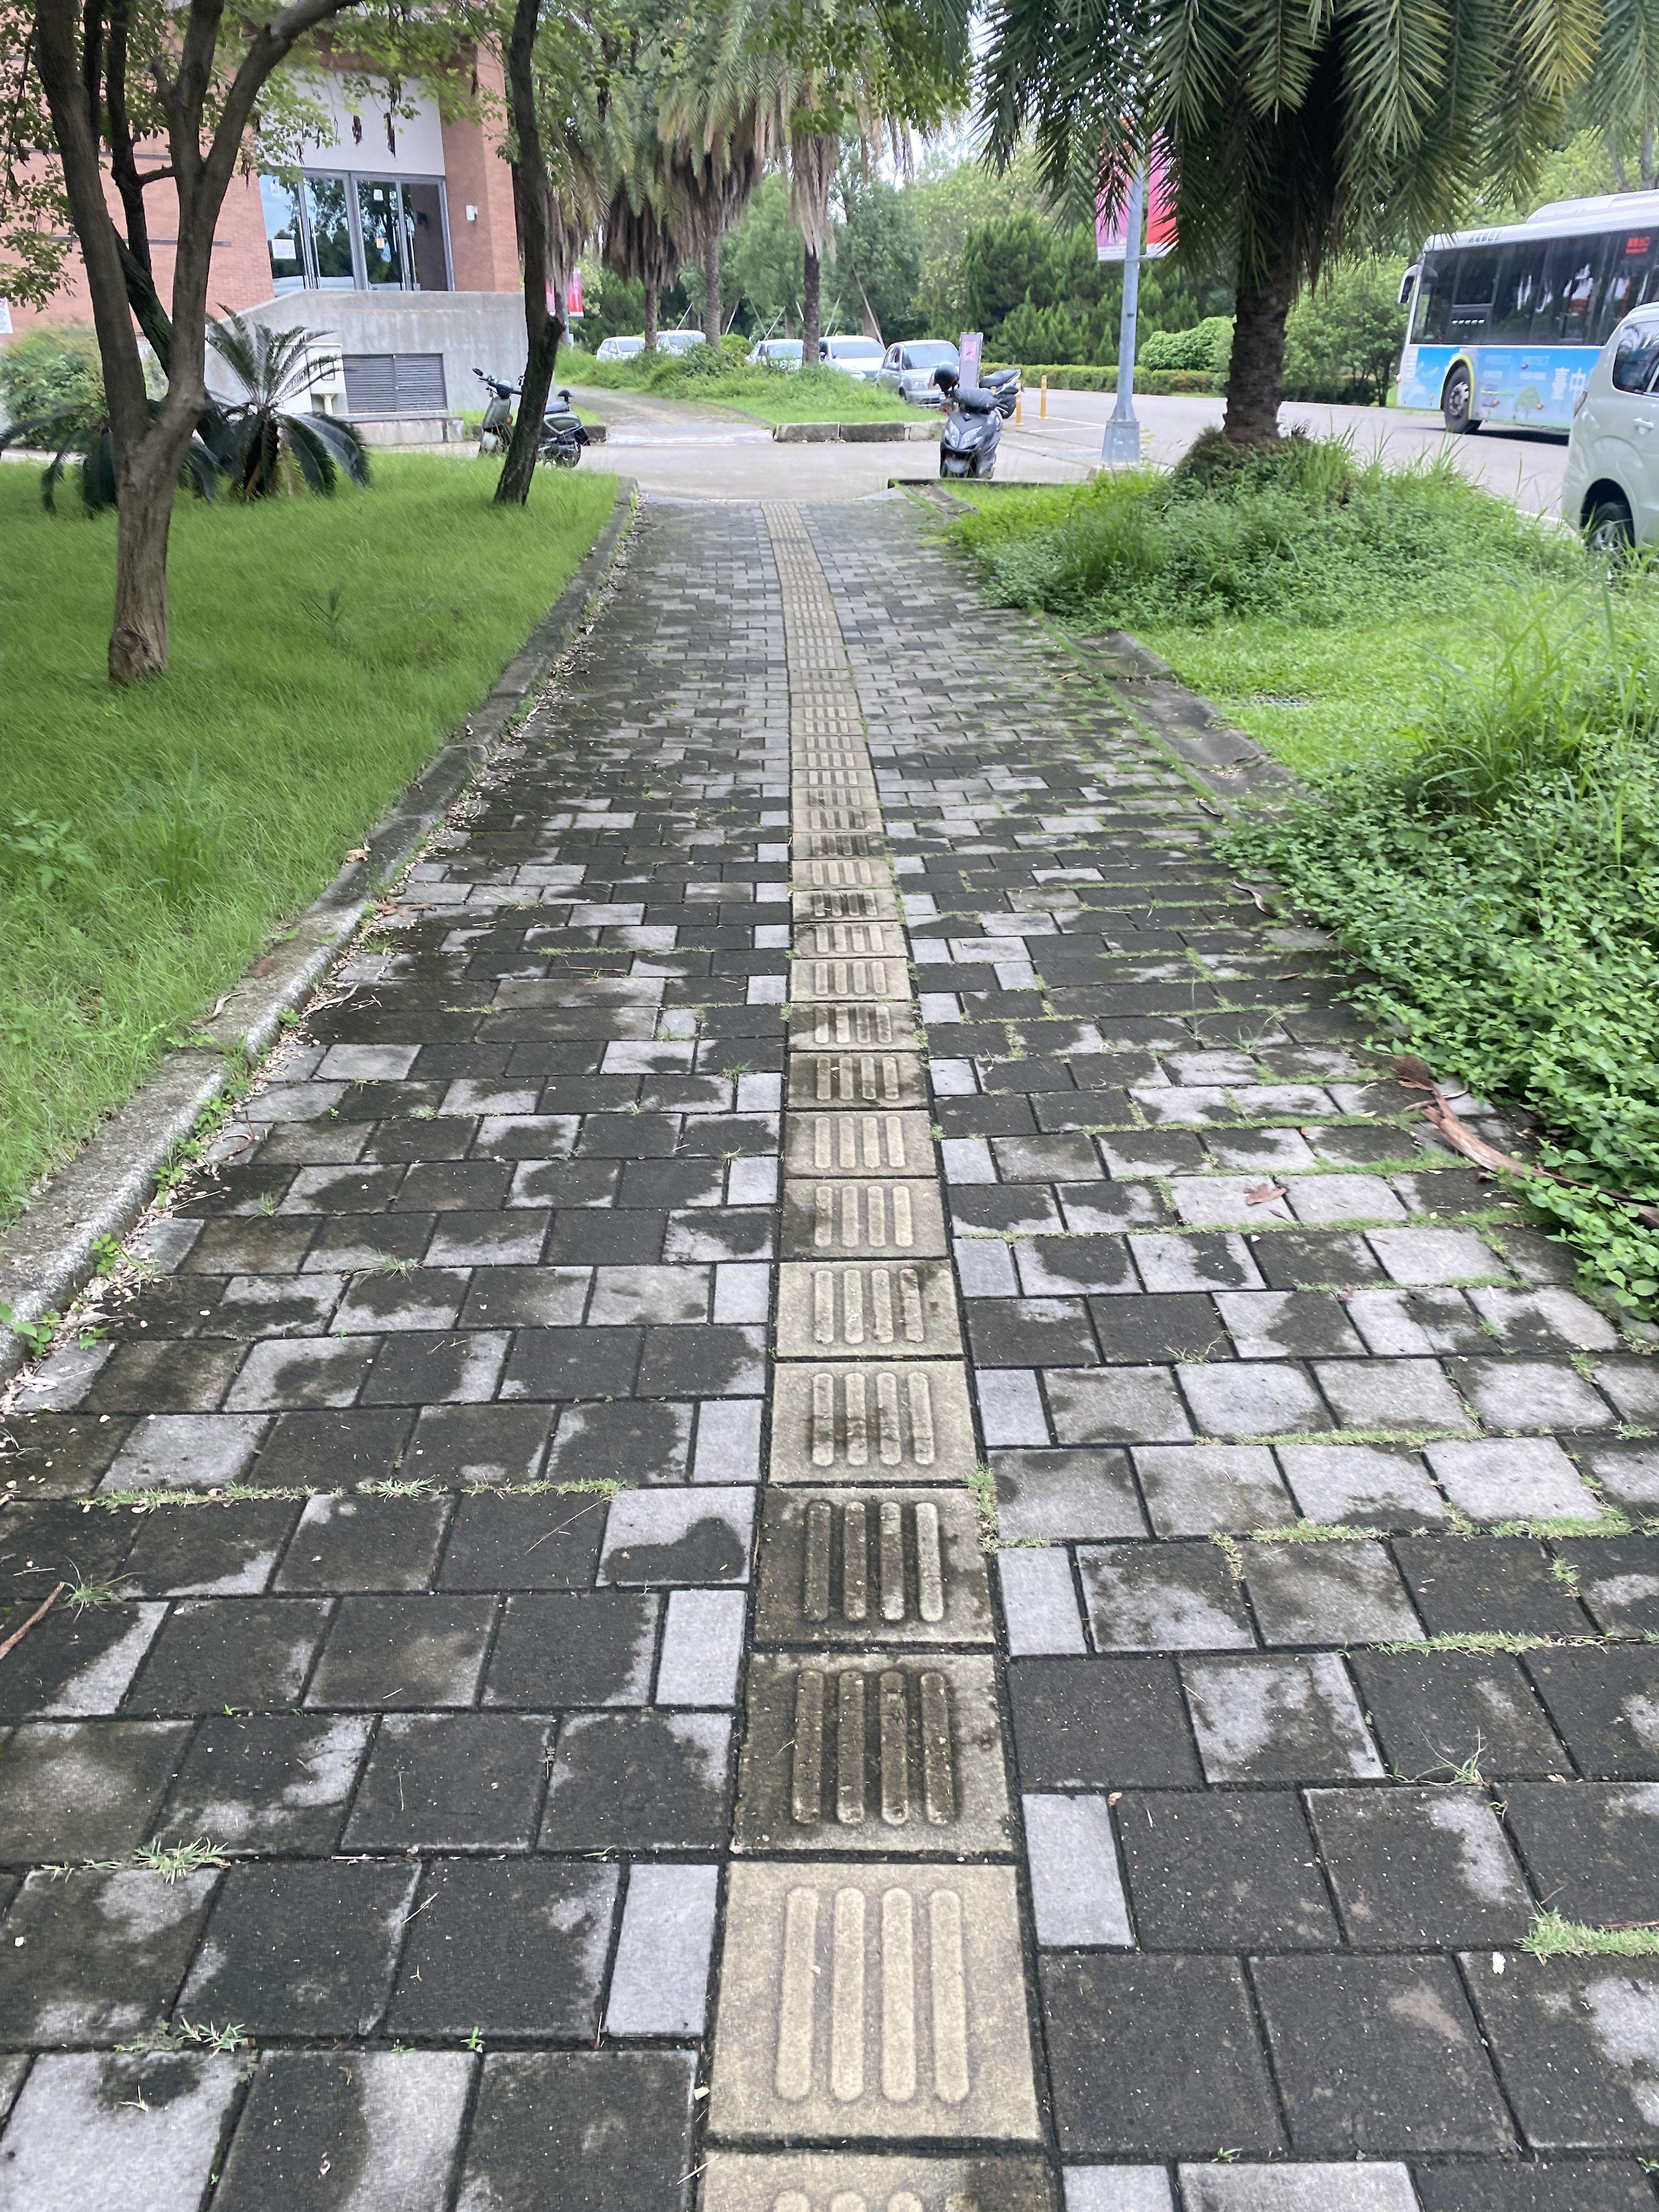sidewalk: (0, 449, 1659, 2212)
